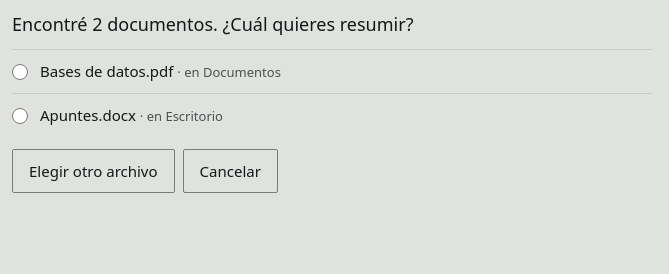
Test: confirmación de un documento › con varios candidatos sin uno claro, nada se envía hasta elegir
Expected: the text "Encontré 2 documentos. ¿Cuál quieres resumir?" is shown, [12,12,414,36]
Click the radio button labelled "Apuntes.docx · en Escritorio" at (20,116), box [12,108,28,124]
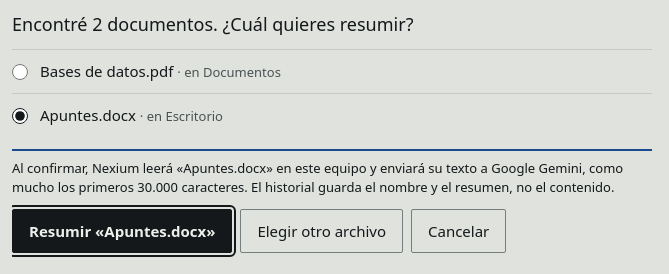
Expected: the text "leerá «Apuntes.docx» en este equipo y enviará su texto a Google Gemini" is shown, [12,149,652,197]
Click the button "Resumir «Apuntes.docx»" at (122,231), box [12,209,232,253]
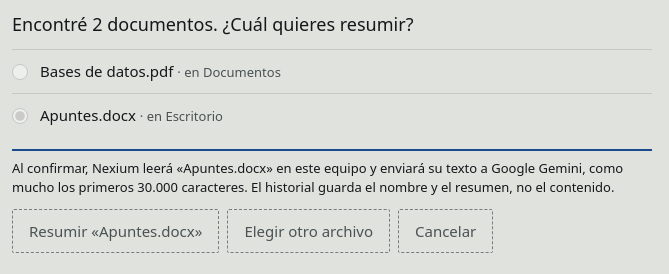
Expected: the button "Resumir «Apuntes.docx»" is disabled, [12,209,219,253]
